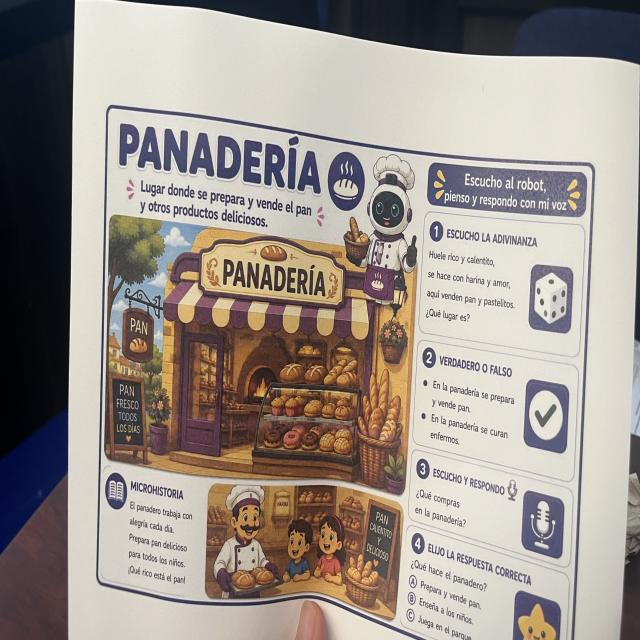panaderia: (93, 99, 598, 640)
